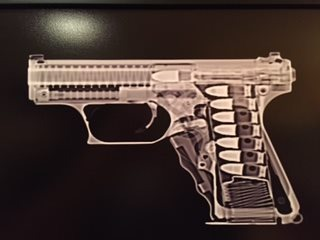gun: (22, 49, 305, 228)
